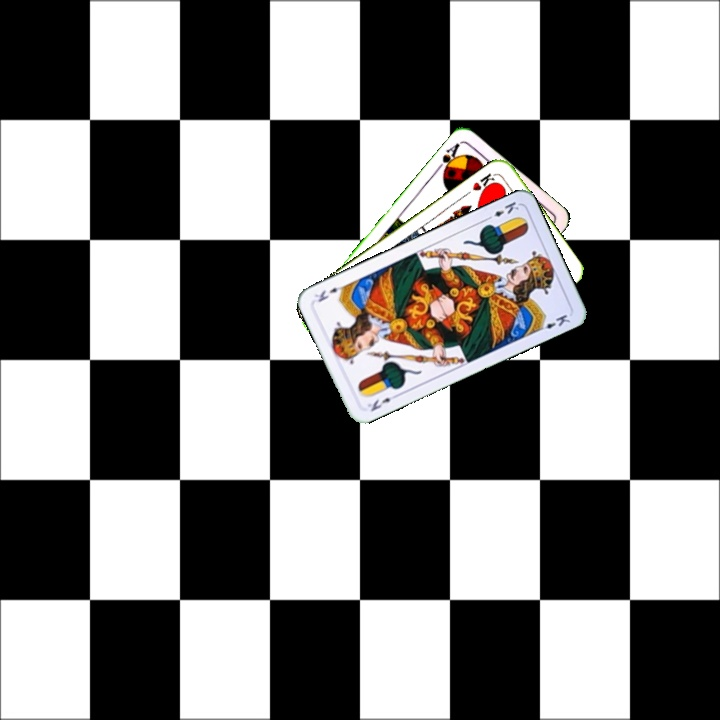EK: (482, 197, 522, 223), (363, 390, 401, 414)
HK: (468, 169, 500, 196)
SA: (432, 139, 463, 178)
